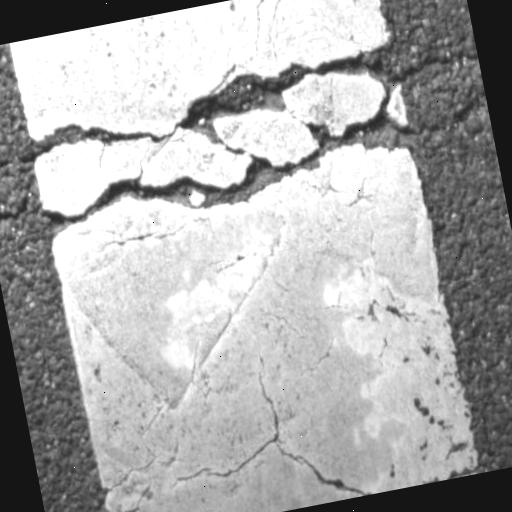spalling: (51, 114, 408, 241), (39, 42, 387, 162), (191, 378, 375, 497)
